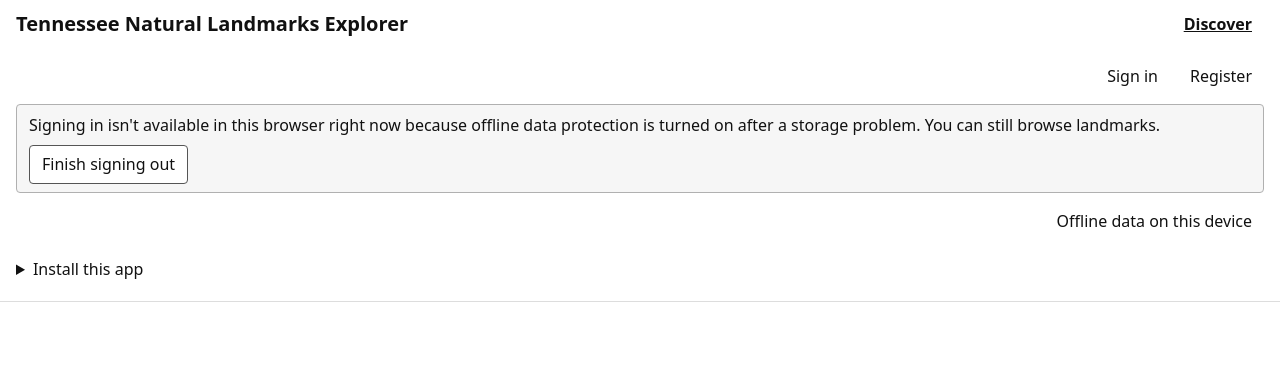
Test case: AccountNav — offline security restrictions (M06-T03 3c-1a) › with D22 present: the reason and Finish signing out, which never clears D22 (U1)
The image size is (1280, 369).
Click the button "Finish signing out": click(108, 164) [29, 145, 188, 184]
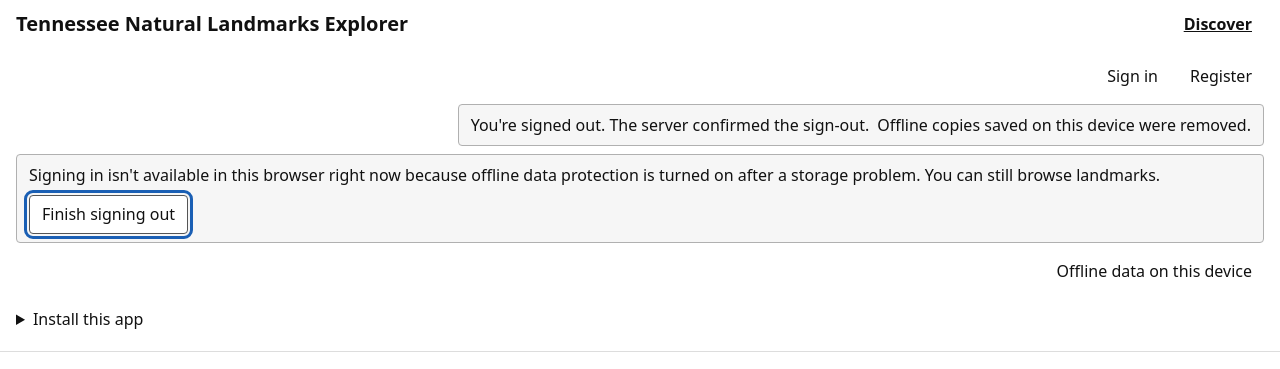
Check: the text "You're signed out. The server confirmed the sign-out." is shown, box [471, 113, 869, 137]
